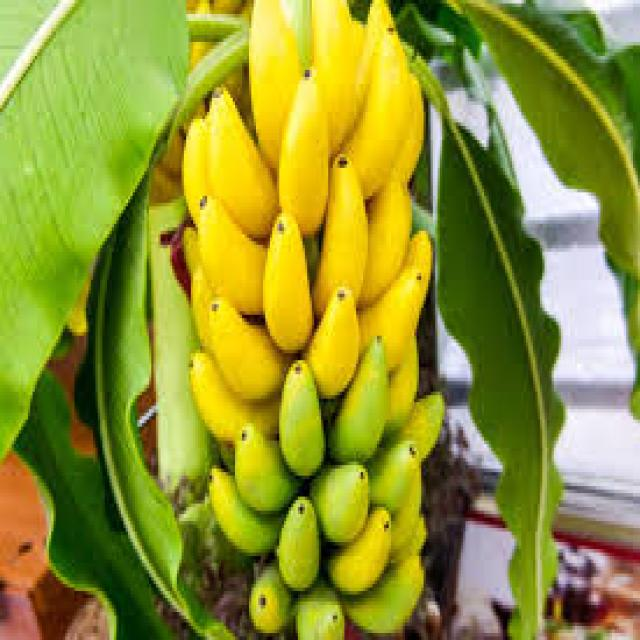banana: (177, 0, 444, 637)
